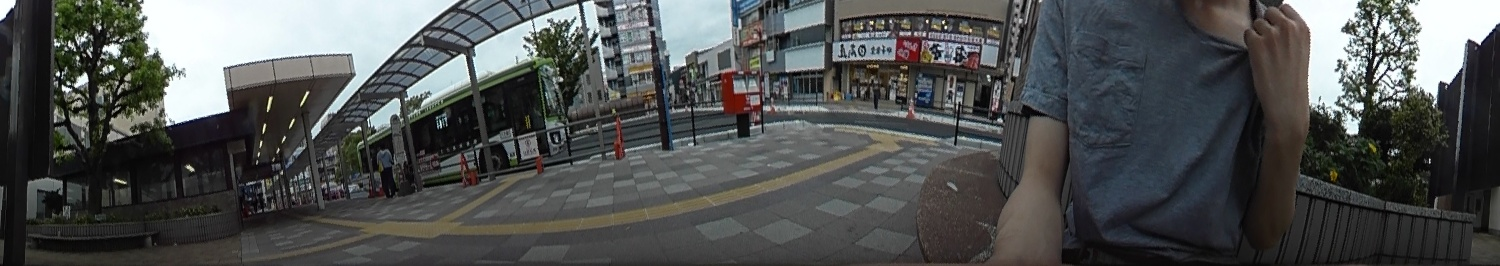person: (374, 140, 398, 196)
